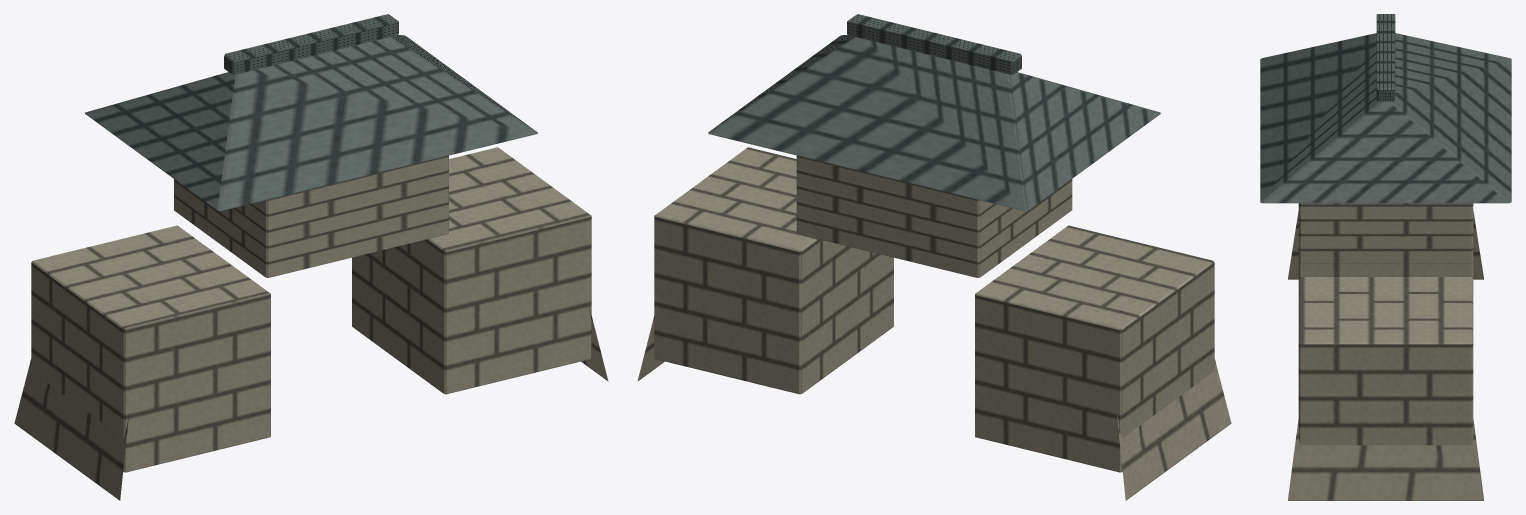
The model's file is gate-v121-lod2.glb.
3 views of the same model, side by side, from view 1: azimuth 30°, elevation 25°; view 2: azimuth 150°, elevation 25°; view 3: azimuth 270°, elevation 25° (orthographic). The views are drawn at different scales.
Bounding box in the file's own units: 0.96 × 0.686 × 0.46.
1 material, 1 textured.
